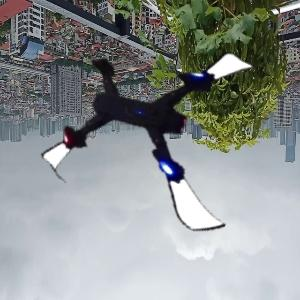drone: (62, 18, 267, 223)
